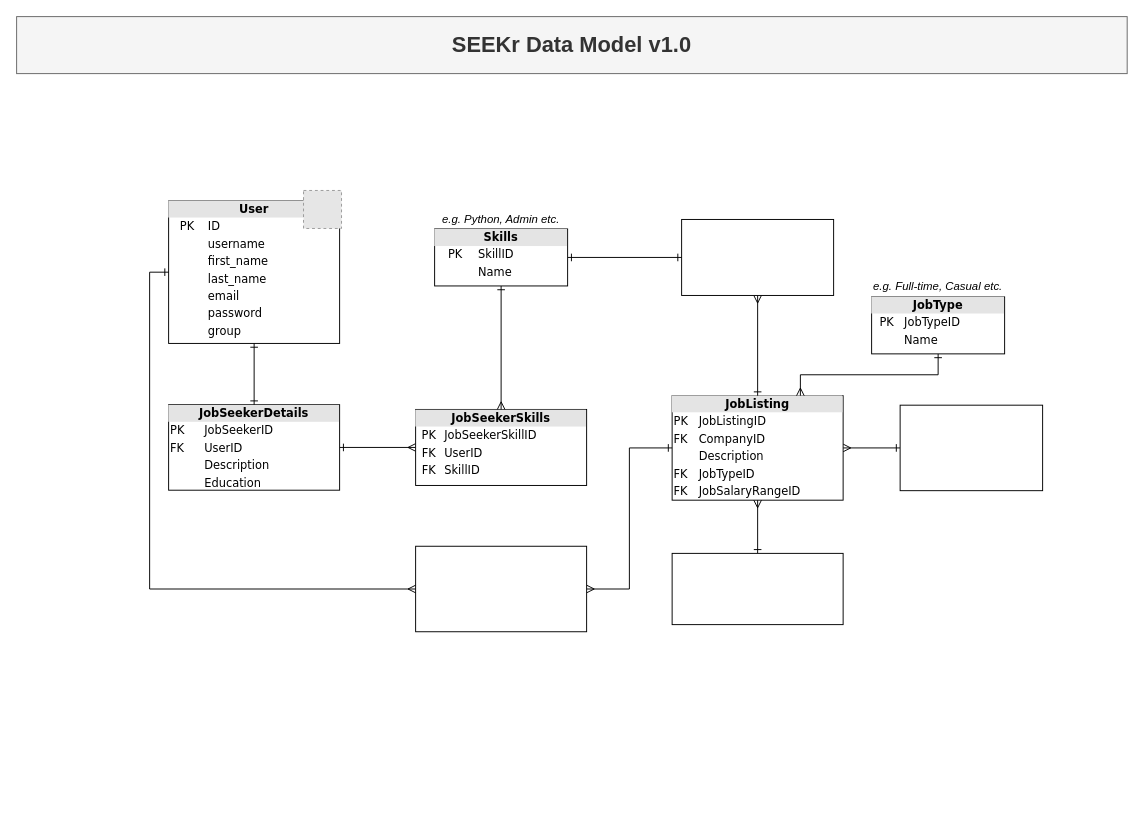
Some shapes in this 1144 by 819 pixel diagram are drawn without their labels. Grey dashed boxes stand in for pictures. The centre of each missing label's shape, as x and y in pixels:
"Company PK CompanyID Name Location Description" goes at [971,447].
"JobListingSkills PK JobListingSkillID FK JobListingID FK SkillID" goes at [757,256].
"JobMatch PK JobMatchID FK JobListingID FK UserID MatchStatus" goes at [501,588].
"JobSalaryRange PK JobSalaryRangeID SalaryRange SortOrder" goes at [757,588].
